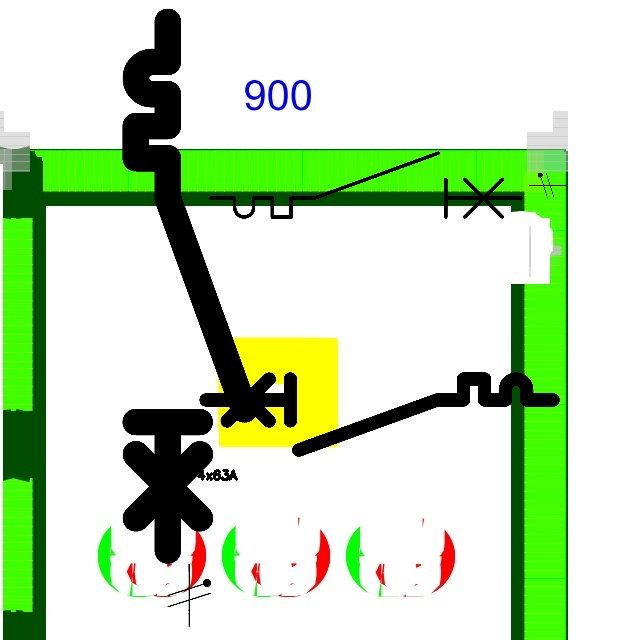interruptor_termomagnetico: (122, 8, 258, 564), (197, 370, 562, 459), (203, 145, 529, 225)
